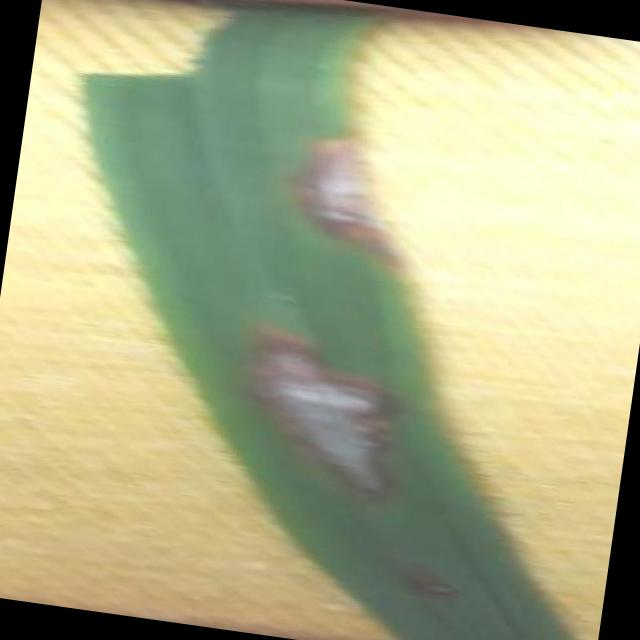Rice_Blast: (187, 287, 432, 514), (250, 90, 425, 284)
